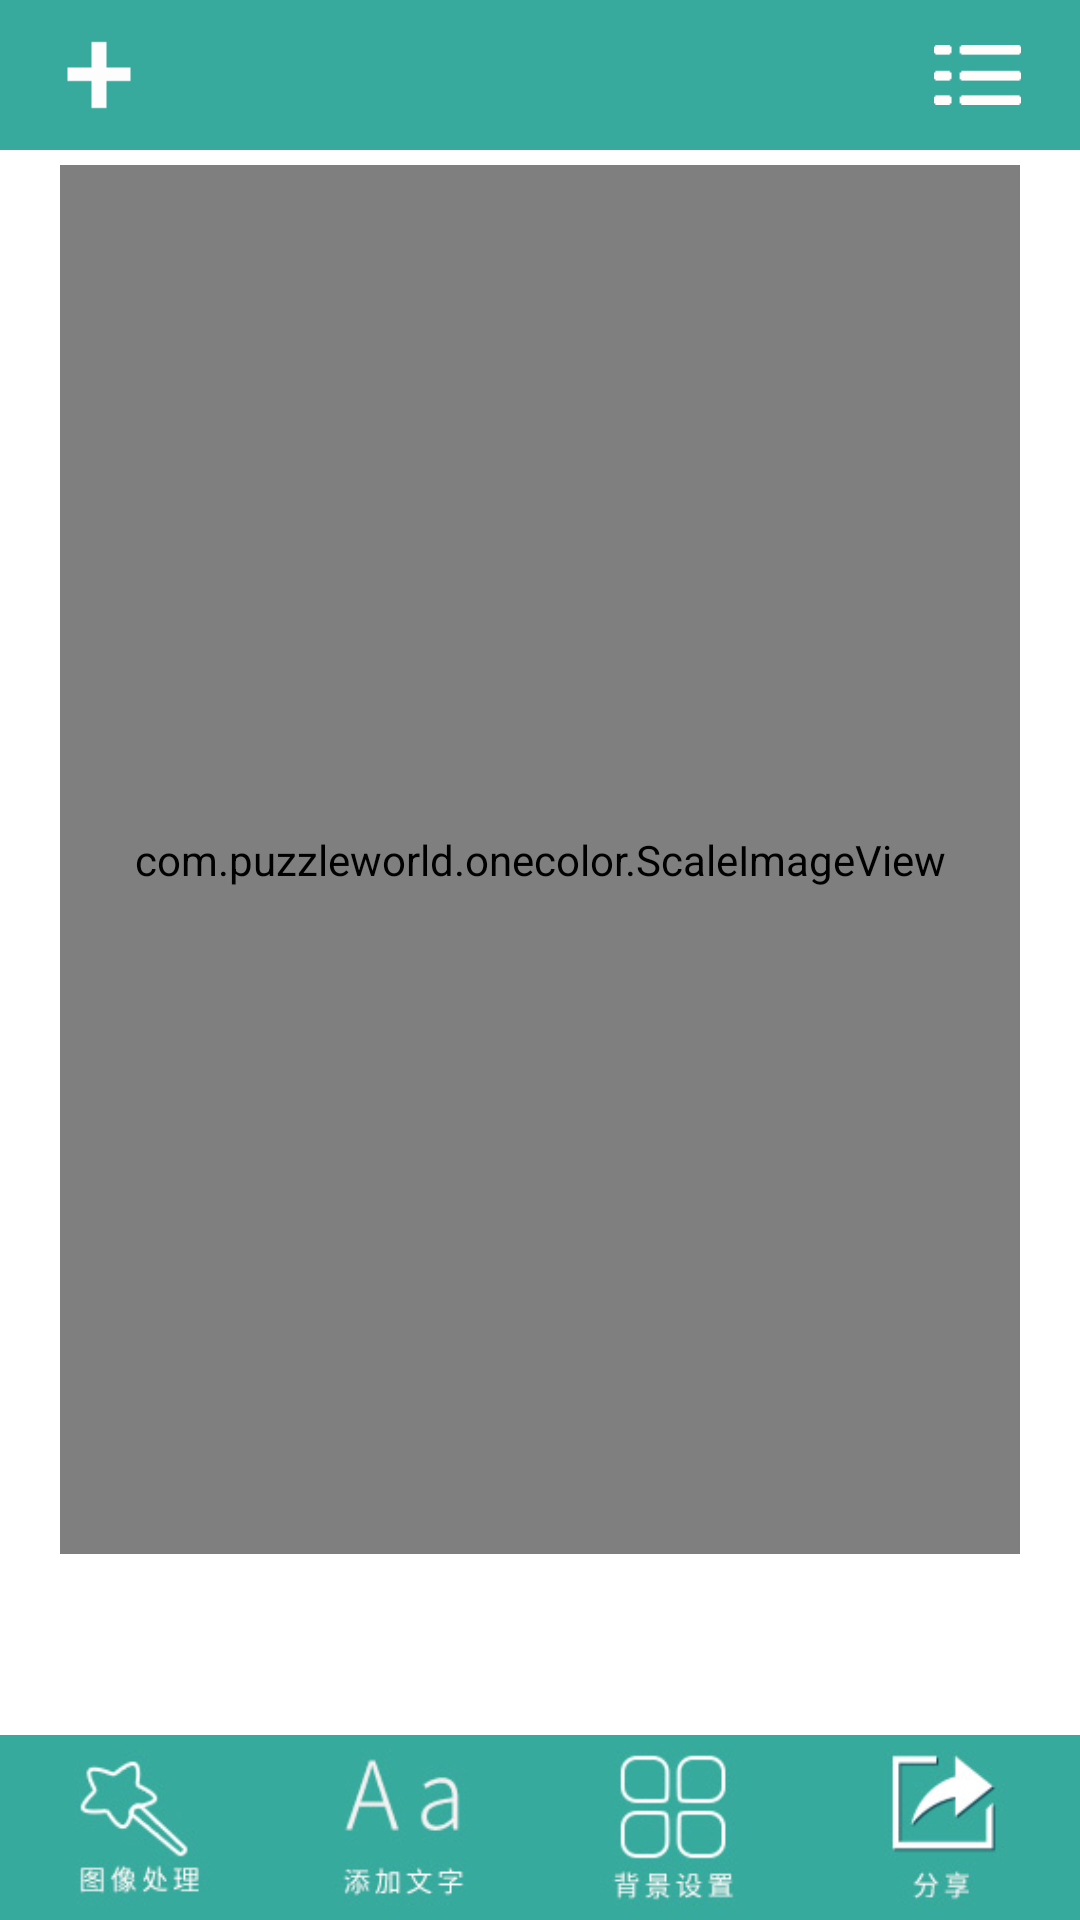

Screen size 1080w x 1920h. Icon name, then its center in pixels as (x,y):
menu: (977,75)
